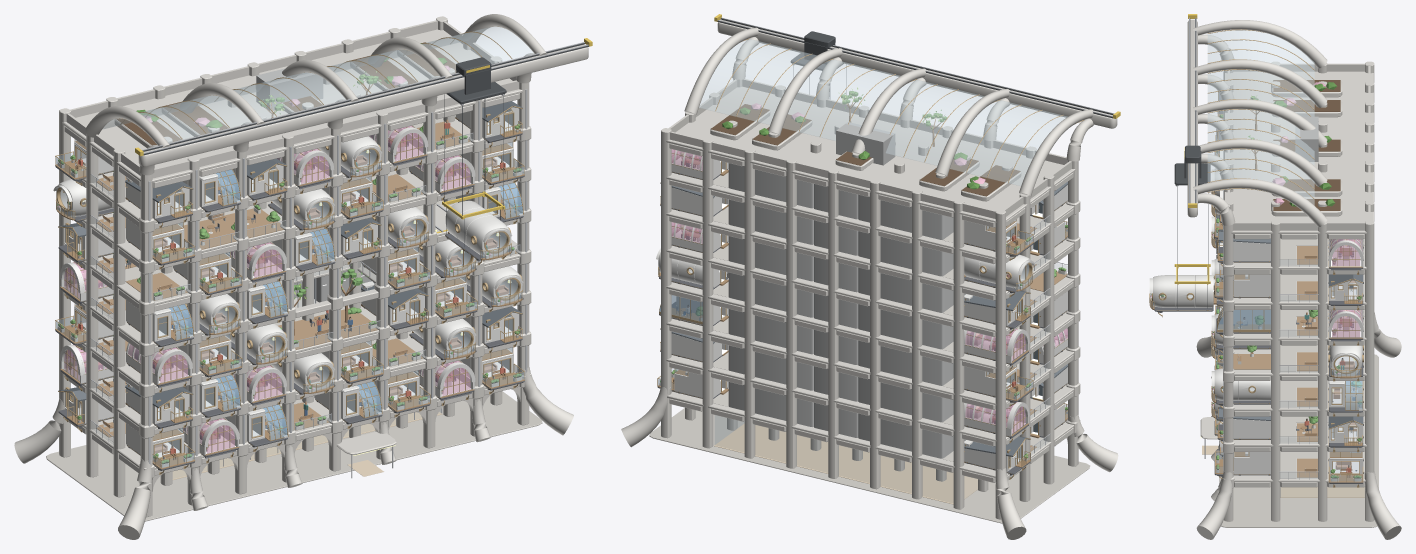
The model's file is q08c-housing-tower-2127.glb.
3 renders of one model, left to right at view 1: azimuth 30°, elevation 25°; view 2: azimuth 150°, elevation 25°; view 3: azimuth 270°, elevation 25°, orthographic. The views are drawn at different scales.
Parts seen in each view (by area): view 1: Q08H_Frame, Q08H_Rail, Q08H_Commons, Q08H_House_Delivery, Q08H_Trolley, Q08H_House_F3_0, Q08H_House_F6_0, Q08H_House_F5_0, Q08H_House_F1_0, Q08H_House_F0_0, Q08H_House_F2_5, Q08H_House_F2_0 (+43 smaller); view 2: Q08H_Frame, Q08H_Rail, Q08H_Commons, Q08H_House_L5_0, Q08H_House_L0_0, Q08H_House_L4_0, Q08H_House_L3_0, Q08H_House_L1_0, Q08H_House_L6_0, Q08H_House_L2_0, Q08H_House_R3_0, Q08H_House_R0_0 (+6 smaller); view 3: Q08H_Frame, Q08H_Rail, Q08H_Commons, Q08H_House_Delivery, Q08H_House_F2_7, Q08H_House_R3_0, Q08H_House_R1_0, Q08H_House_R2_0, Q08H_House_R5_0, Q08H_House_R0_0, Q08H_House_R4_0, Q08H_House_R6_0 (+8 smaller).
Boxes of the visible parts, x1=… form: Q08H_Frame: x1=14, y1=16, x2=573, y2=539; Q08H_Rail: x1=85, y1=14, x2=592, y2=464; Q08H_Commons: x1=90, y1=42, x2=520, y2=479; Q08H_House_Delivery: x1=445, y1=200, x2=512, y2=265; Q08H_Trolley: x1=444, y1=57, x2=506, y2=215; Q08H_House_F3_0: x1=126, y1=300, x2=194, y2=351; Q08H_House_F6_0: x1=125, y1=177, x2=193, y2=228; Q08H_House_F5_0: x1=126, y1=218, x2=195, y2=269; Q08H_House_F1_0: x1=125, y1=382, x2=193, y2=433; Q08H_House_F0_0: x1=126, y1=423, x2=194, y2=474; Q08H_House_F2_5: x1=361, y1=280, x2=428, y2=335; Q08H_House_F2_0: x1=126, y1=343, x2=192, y2=392; Q08H_Frame: x1=621, y1=79, x2=1118, y2=539; Q08H_Rail: x1=684, y1=14, x2=1120, y2=196; Q08H_Commons: x1=710, y1=87, x2=1067, y2=504; Q08H_House_L5_0: x1=964, y1=254, x2=1035, y2=297; Q08H_House_L0_0: x1=964, y1=436, x2=1030, y2=479; Q08H_House_L4_0: x1=964, y1=291, x2=1030, y2=333; Q08H_House_L3_0: x1=964, y1=328, x2=1029, y2=370; Q08H_House_L1_0: x1=964, y1=402, x2=1029, y2=443; Q08H_House_L6_0: x1=964, y1=219, x2=1033, y2=260; Q08H_House_L2_0: x1=964, y1=365, x2=1033, y2=406; Q08H_House_R3_0: x1=656, y1=248, x2=728, y2=289; Q08H_House_R0_0: x1=657, y1=368, x2=728, y2=398; Q08H_Frame: x1=1196, y1=61, x2=1401, y2=539; Q08H_Rail: x1=1187, y1=14, x2=1327, y2=472; Q08H_Commons: x1=1200, y1=80, x2=1364, y2=497; Q08H_House_Delivery: x1=1149, y1=275, x2=1216, y2=317; Q08H_House_F2_7: x1=1211, y1=368, x2=1270, y2=408; Q08H_House_R3_0: x1=1328, y1=345, x2=1363, y2=381; Q08H_House_R1_0: x1=1328, y1=416, x2=1363, y2=452; Q08H_House_R2_0: x1=1328, y1=381, x2=1363, y2=416; Q08H_House_R5_0: x1=1328, y1=274, x2=1363, y2=310; Q08H_House_R0_0: x1=1328, y1=452, x2=1363, y2=487; Q08H_House_R4_0: x1=1328, y1=310, x2=1363, y2=345; Q08H_House_R6_0: x1=1328, y1=239, x2=1363, y2=274.
Bounding box in the file's own units: 58.71 × 49.17 × 32.26.
